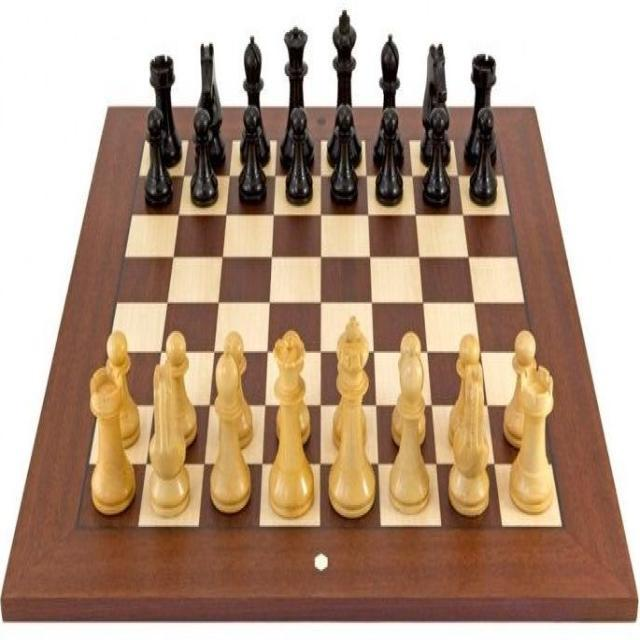chess-table-corners: (61, 504, 93, 550), (548, 504, 577, 548)
